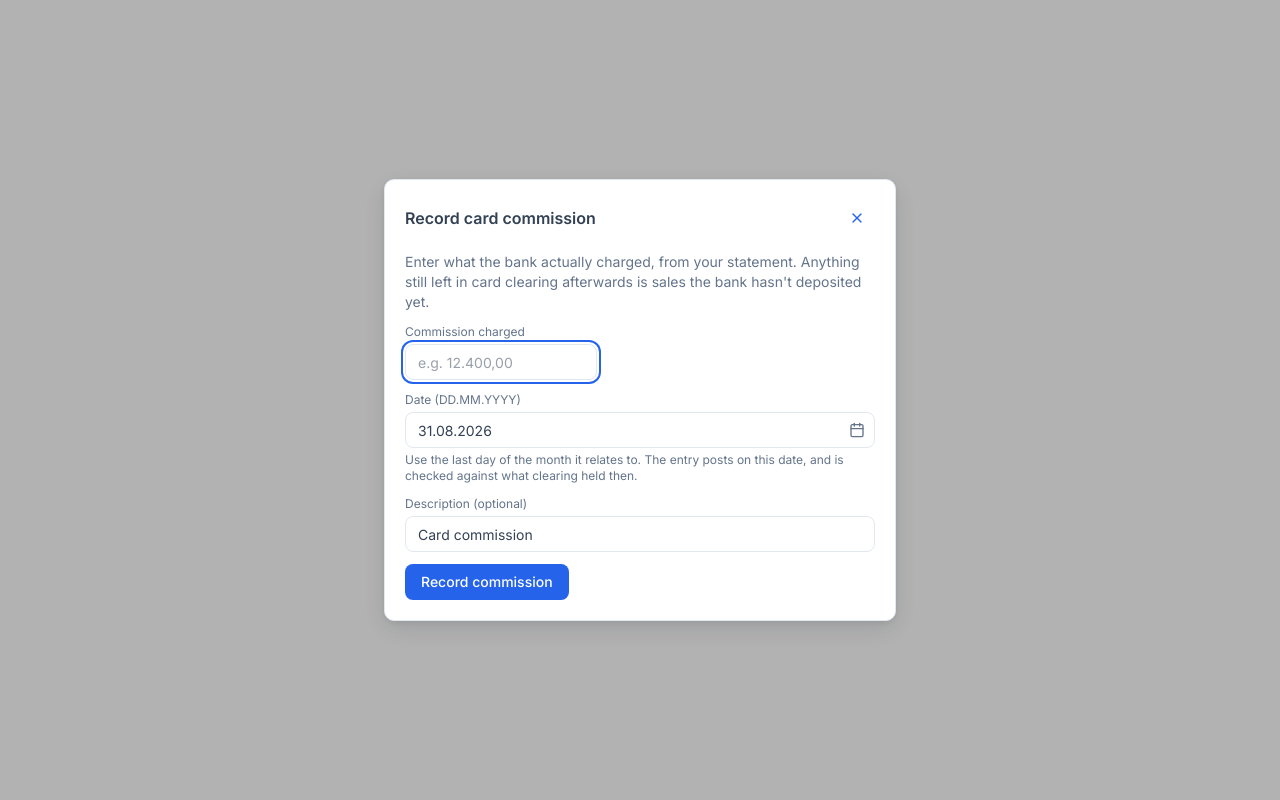
it: ClearCommissionForm period card sales › shows the implied rate against period sales
In the field labelled "Commission charged": x=501, y=362 [405,344,597,380], type "12.400,00"
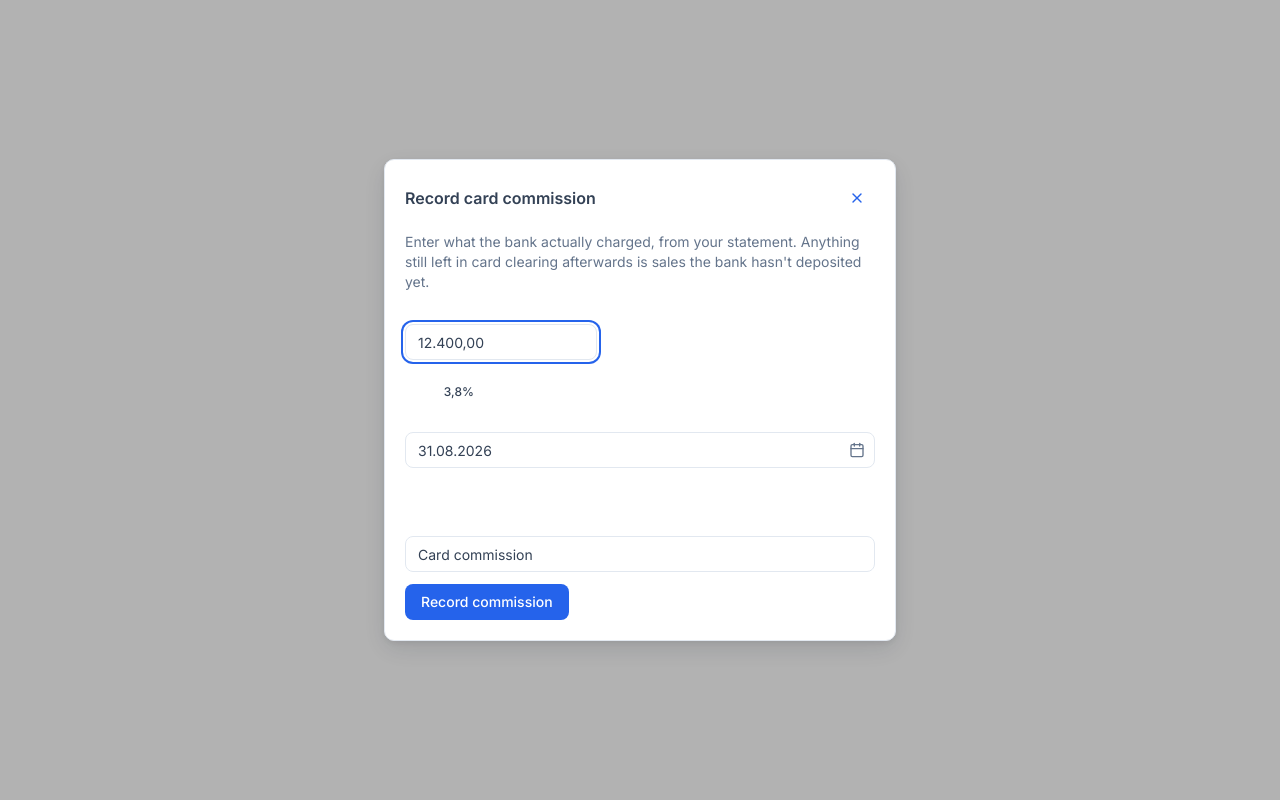
Expected: the text "3,8%" is shown, [444,384,474,399]
Expected: the text "That's 3,8% of 326.000,00 ₺ August 2026 card sales." is shown, [405,384,710,399]
